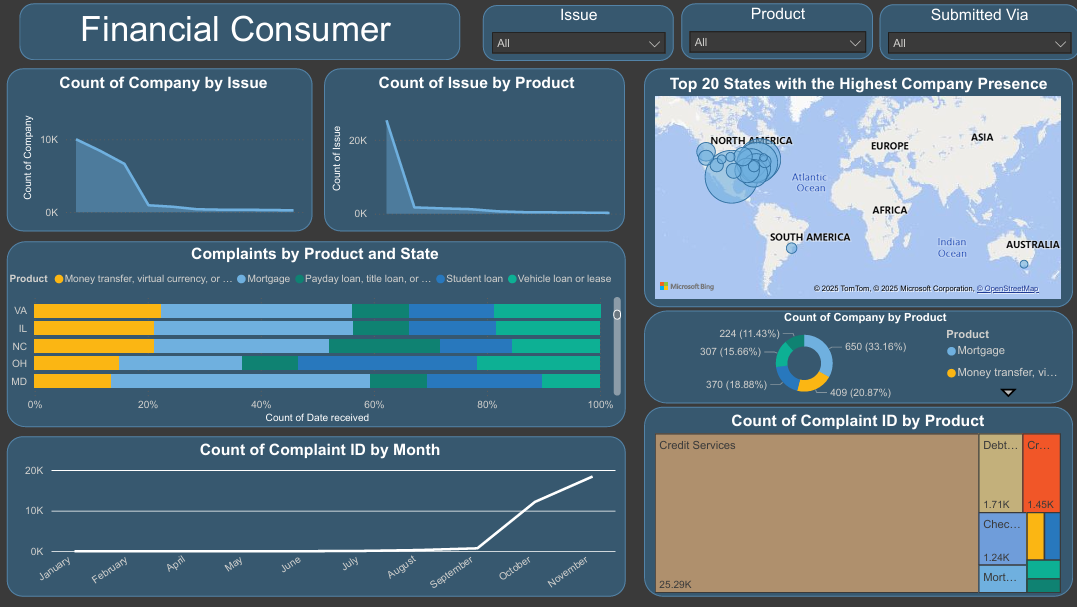

What the dashboard file says about the page in this screenshot:
{"tool":"powerbi","page":{"name":"Page 1","canvas":[1280,720],"ordinal":0},"visuals":[{"type":"shape","box":[1043,6,237,66],"z":0},{"type":"shape","box":[808.5,5.4,226.2,65.4],"z":1000},{"type":"shape","box":[573,7,226,66],"z":2000},{"type":"shape","box":[9.2,517.7,732.3,190],"z":3000},{"type":"shape","box":[9.2,286.9,732.3,220],"z":4000},{"type":"shape","box":[384.6,82.3,356.2,192.3],"z":5000},{"type":"shape","box":[9.2,82.3,361.5,192.3],"z":6000},{"type":"shape","box":[764.4,483.3,507.8,224.4],"z":7000},{"type":"shape","box":[764.4,368.9,507.8,110],"z":8000},{"type":"shape","box":[764,82,507.8,283.3],"z":9000},{"type":"map","title":"Top 20 States with the Highest Company Presence","fields":{"Category":["Financial_Consumer_data.State"],"Size":["CountNonNull(Financial_Consumer_data.Company)"]},"box":[772.5,88.8,490,271.2],"z":10000},{"type":"donutChart","fields":{"Category":["Financial_Consumer_data.Product"],"Y":["CountNonNull(Financial_Consumer_data.Company)"]},"box":[780,368.9,492.2,110],"z":11000},{"type":"treemap","fields":{"Group":["Financial_Consumer_data.Product"],"Values":["Count(Financial_Consumer_data.Complaint ID)"]},"box":[772.3,489.2,490,218.5],"z":12000},{"type":"areaChart","fields":{"Category":["Financial_Consumer_data.Issue"],"Y":["CountNonNull(Financial_Consumer_data.Company)"]},"box":[23.8,88.5,341.5,176.9],"z":13000},{"type":"areaChart","fields":{"Category":["Financial_Consumer_data.Product"],"Y":["CountNonNull(Financial_Consumer_data.Issue)"]},"box":[390,88.5,350.8,178.5],"z":14000},{"type":"lineChart","fields":{"Category":["Financial_Consumer_data.Date received.Variation.Date Hierarchy.Month"],"Y":["CountNonNull(Financial_Consumer_data.Complaint ID)"]},"box":[24.6,523.1,710.8,190],"z":15000},{"type":"hundredPercentStackedBarChart","title":"Complaints by Product and State","fields":{"Category":["Financial_Consumer_data.State"],"Y":["CountNonNull(Financial_Consumer_data.Date received)"],"Series":["Financial_Consumer_data.Product"]},"box":[6.9,290.8,733.8,216.2],"z":16000},{"type":"slicer","title":"Submitted Via","fields":{"Values":["Financial_Consumer_data.Submitted via"]},"box":[1043.1,7.7,236.9,64.6],"z":17000},{"type":"slicer","title":"Issue","fields":{"Values":["Financial_Consumer_data.Issue"]},"box":[574,8,225,65],"z":18000},{"type":"slicer","title":"Product","fields":{"Values":["Financial_Consumer_data.Product"]},"box":[808.2,7.3,229.1,58.2],"z":19000},{"type":"shape","box":[23.8,5.4,522.3,66.2],"z":20000},{"type":"shape","title":"Financial Consumer Complaints","box":[24.6,12.3,510,47.7],"z":21000}]}

Visuals, with their boxes in screenshot pixels (x1, y1, x2, y2), scaled from the page's 1280x720 canvas onto the 1077x608 screenshot:
shape: 878/5/1076/61
shape: 680/5/871/60
shape: 482/6/672/62
shape: 8/437/624/598
shape: 8/242/624/428
shape: 324/69/623/232
shape: 8/69/312/232
shape: 643/408/1070/598
shape: 643/312/1070/404
shape: 643/69/1070/308
"Top 20 States with the Highest Company Presence" map: 650/75/1062/304
donutChart - Financial_Consumer_data.Product x CountNonNull(Financial_Consumer_data.Company): 656/312/1070/404
treemap - Financial_Consumer_data.Product x Count(Financial_Consumer_data.Complaint ID): 650/413/1062/598
areaChart - Financial_Consumer_data.Issue x CountNonNull(Financial_Consumer_data.Company): 20/75/307/224
areaChart - Financial_Consumer_data.Product x CountNonNull(Financial_Consumer_data.Issue): 328/75/623/225
lineChart - Financial_Consumer_data.Date received.Variation.Date Hierarchy.Month x CountNonNull(Financial_Consumer_data.Complaint ID): 21/442/619/602
"Complaints by Product and State" hundredPercentStackedBarChart: 6/246/623/428
"Submitted Via" slicer: 878/7/1076/61
"Issue" slicer: 483/7/672/62
"Product" slicer: 680/6/873/55
shape: 20/5/459/60
"Financial Consumer Complaints" shape: 21/10/450/51
